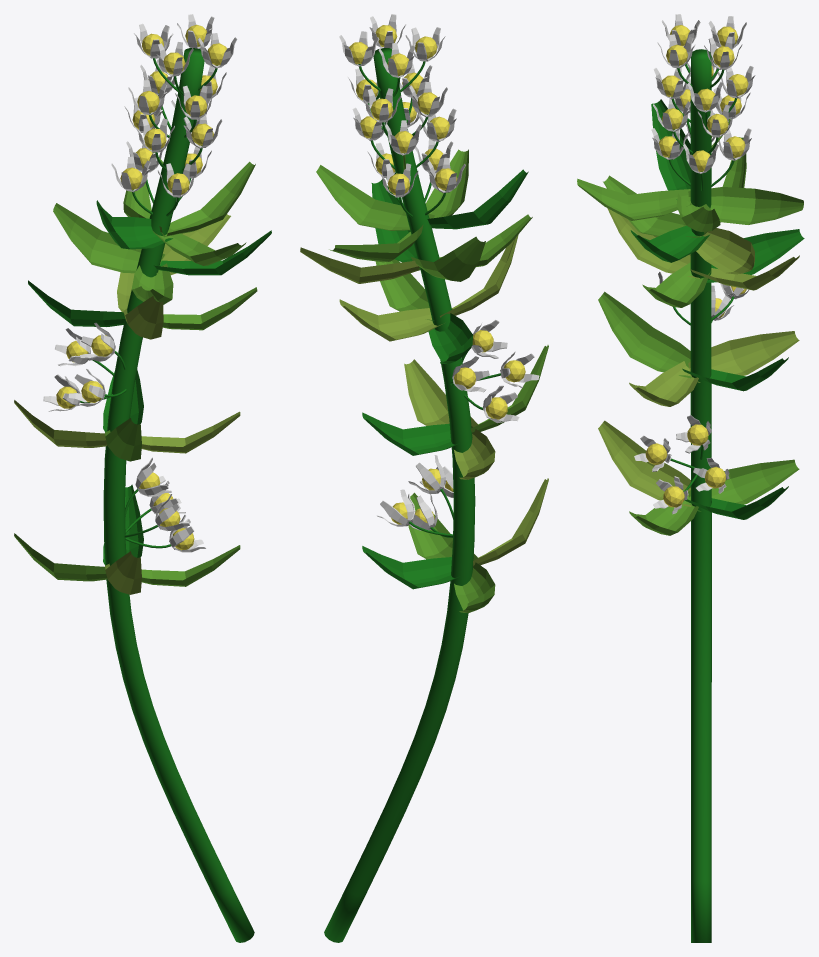
File: planta_fiarelor.fbx
The picture shows the model from 3 angles, left to right: view 1: azimuth 30°, elevation 25°; view 2: azimuth 150°, elevation 25°; view 3: azimuth 270°, elevation 25°; orthographic projection. The views are drawn at different scales.
Visible parts, largest first — view 1: BezierCurve; view 2: BezierCurve; view 3: BezierCurve.
Boxes of the visible parts, <box> form: BezierCurve: <box>14,14,271,942</box>; BezierCurve: <box>300,14,548,942</box>; BezierCurve: <box>577,14,804,942</box>.
Bounding box in the file's own units: 87.13 × 376 × 87.59.
